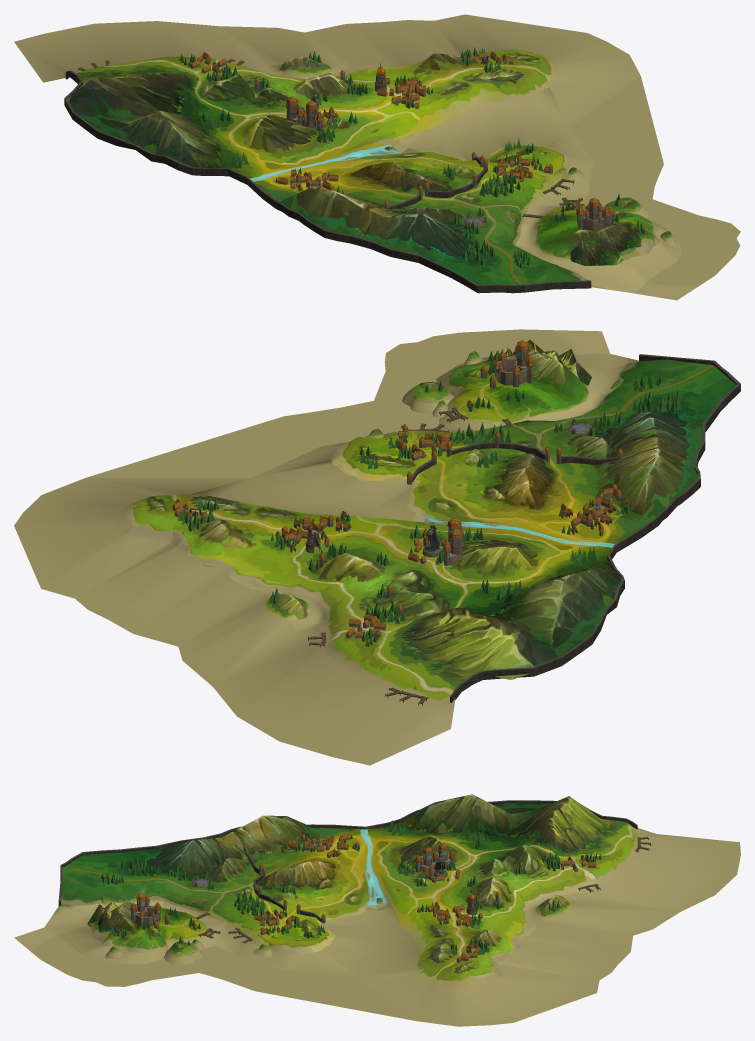
Rendered from worldmap_01.FBX.
3 views of the same model, one above another, from view 1: azimuth 30°, elevation 25°; view 2: azimuth 150°, elevation 25°; view 3: azimuth 270°, elevation 25° (orthographic). The views are drawn at different scales.
Visible parts, largest first — view 1: worldmap_01; view 2: worldmap_01; view 3: worldmap_01.
Part boxes in pixels (box(x1,y1,x2,y2)): worldmap_01: box(14, 14, 740, 300); worldmap_01: box(14, 329, 740, 765); worldmap_01: box(14, 794, 740, 1026).
Size of the model in its own units: 55.64 by 82.83 by 5.37.
